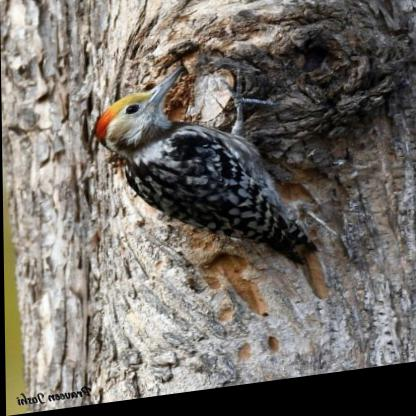Burung: (96, 55, 325, 331)
